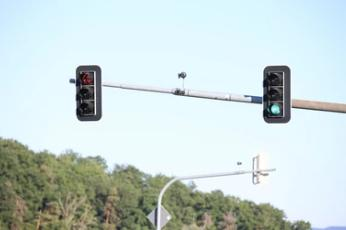green_light: (263, 66, 291, 124)
red_light: (76, 65, 102, 121)
